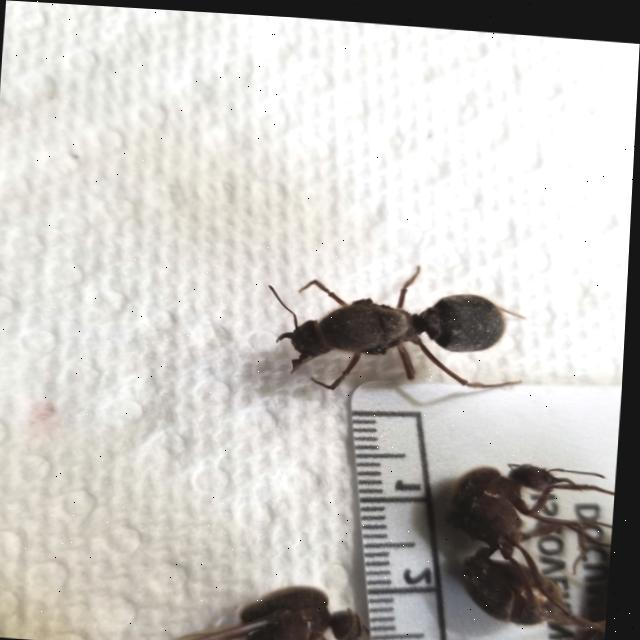Dead-Female-Dealate: (265, 250, 532, 399)
